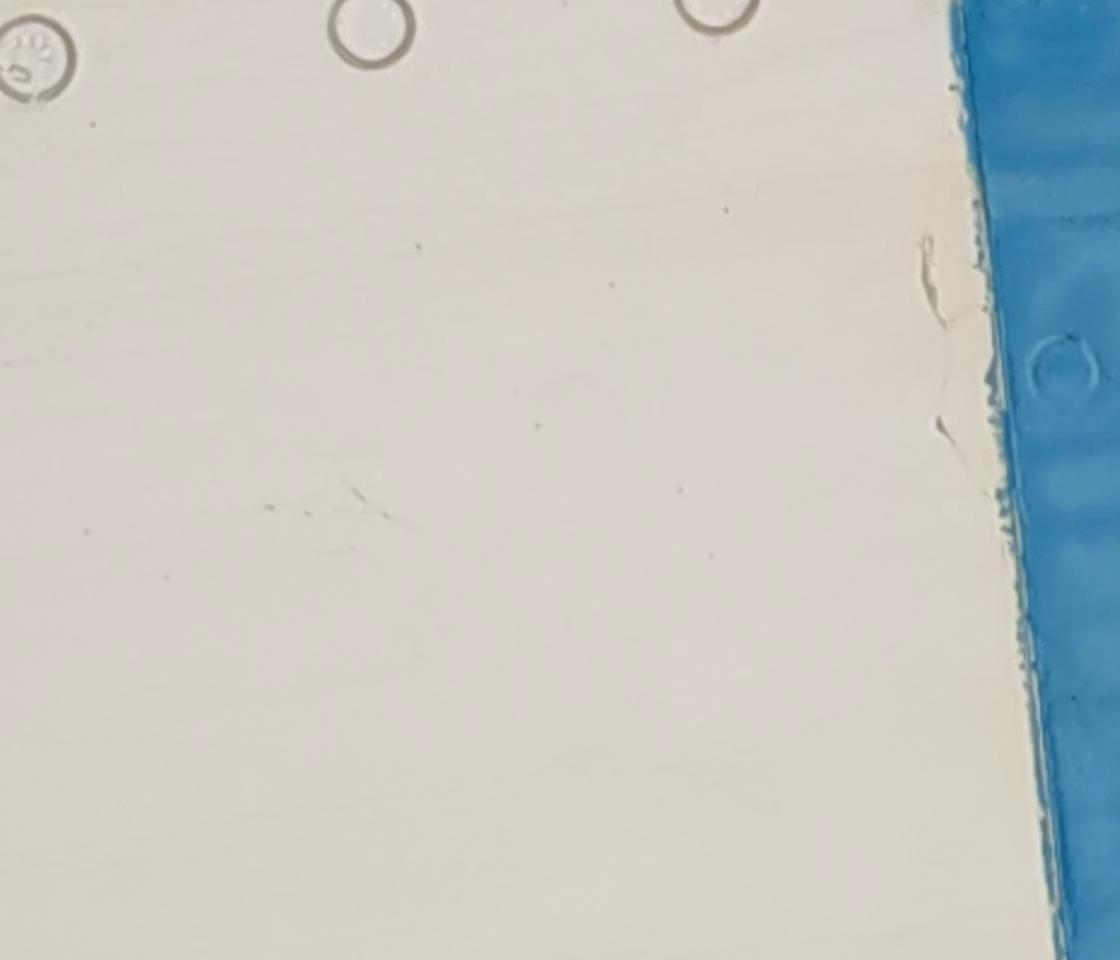scratch: (912, 230, 953, 337)
